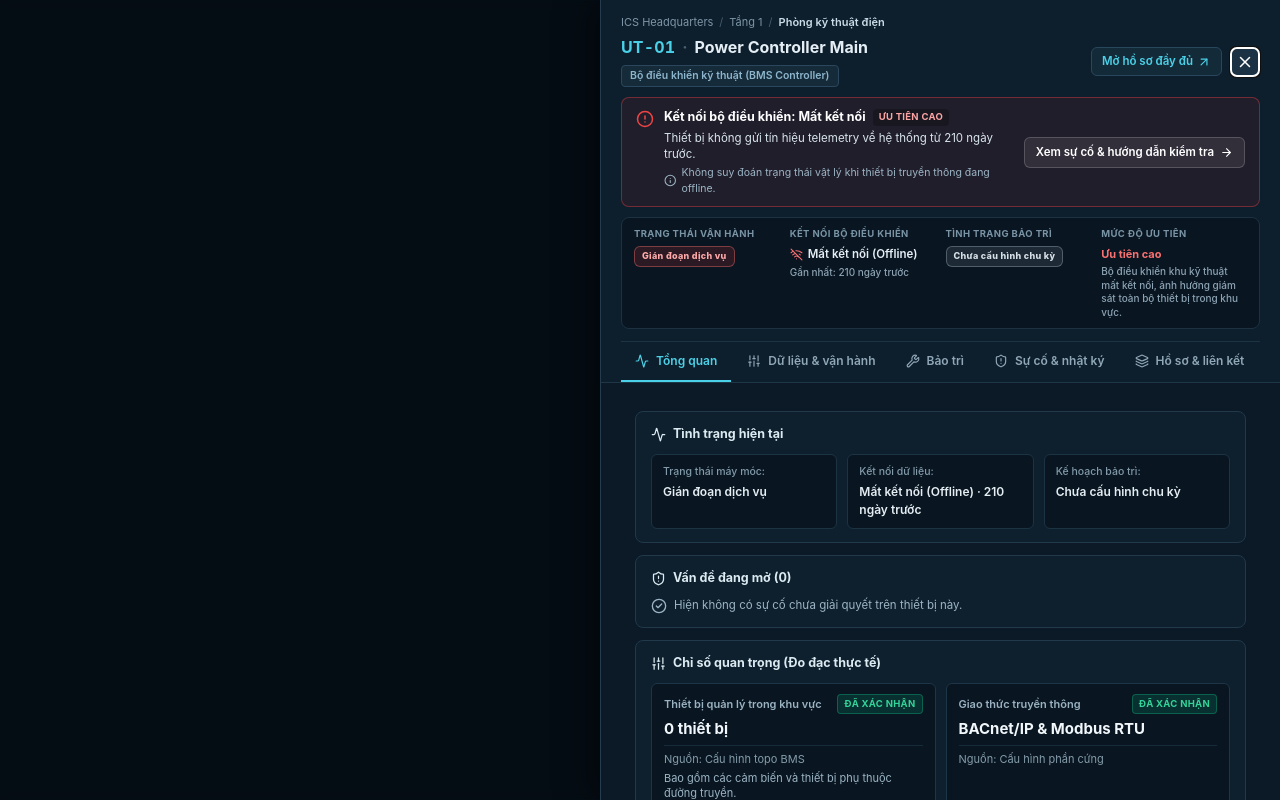
Test: AssetDetailDrawer › distinguishes device without assetId and does not fabricate fake profile
Switch to Tab 5
What coordinates should you click on to do the following:
click the tab "Hồ sơ & liên kết"
I would click on:
 (1190, 362)
Its box is x1=1121 y1=342 x2=1258 y2=382.
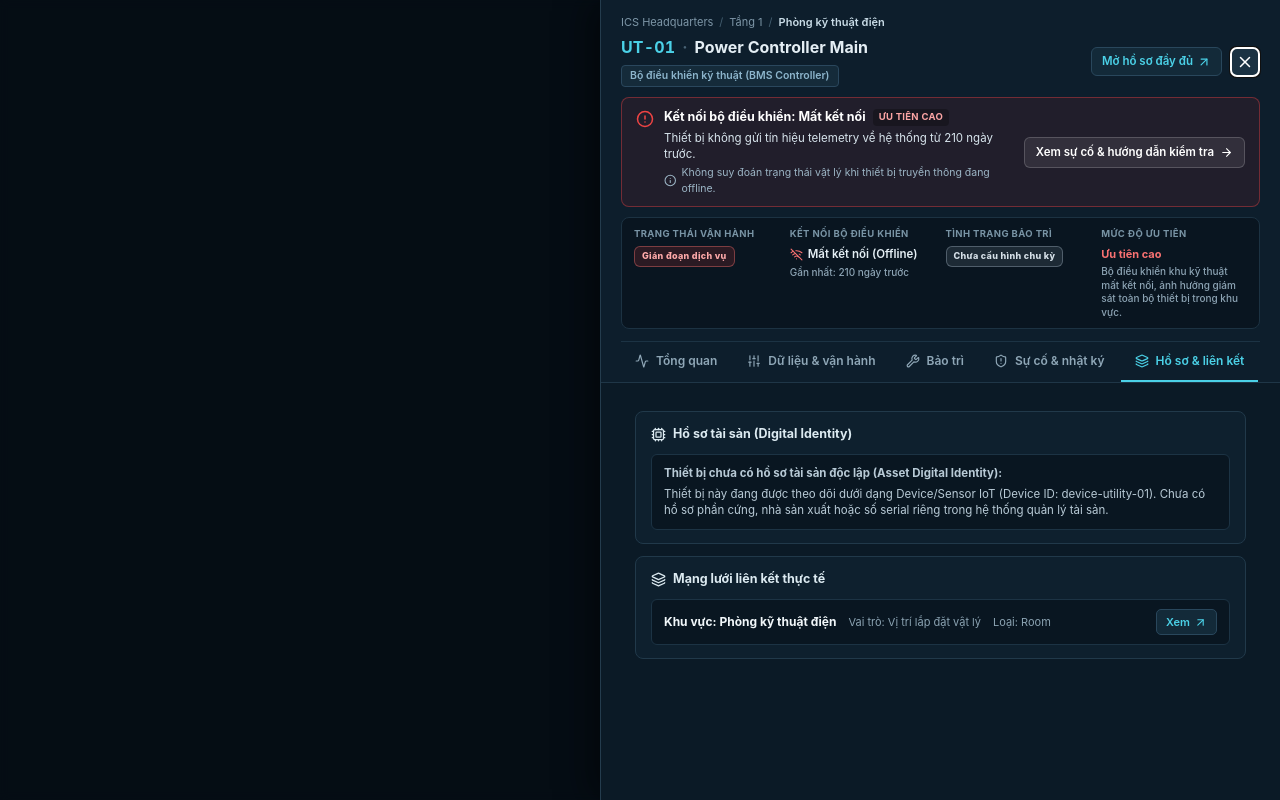
Check: the text "Power Controller Main" is shown, box x1=695 y1=36 x2=868 y2=57
Check: the text "Thiết bị chưa có hồ sơ tài sản độc lập" is shown, box x1=664 y1=466 x2=1002 y2=480
